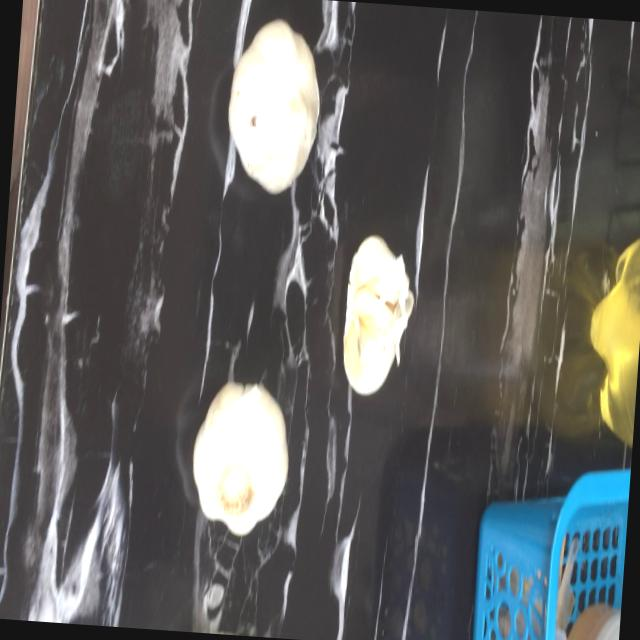bawang: (218, 10, 329, 202), (185, 373, 296, 542), (337, 228, 418, 400)
